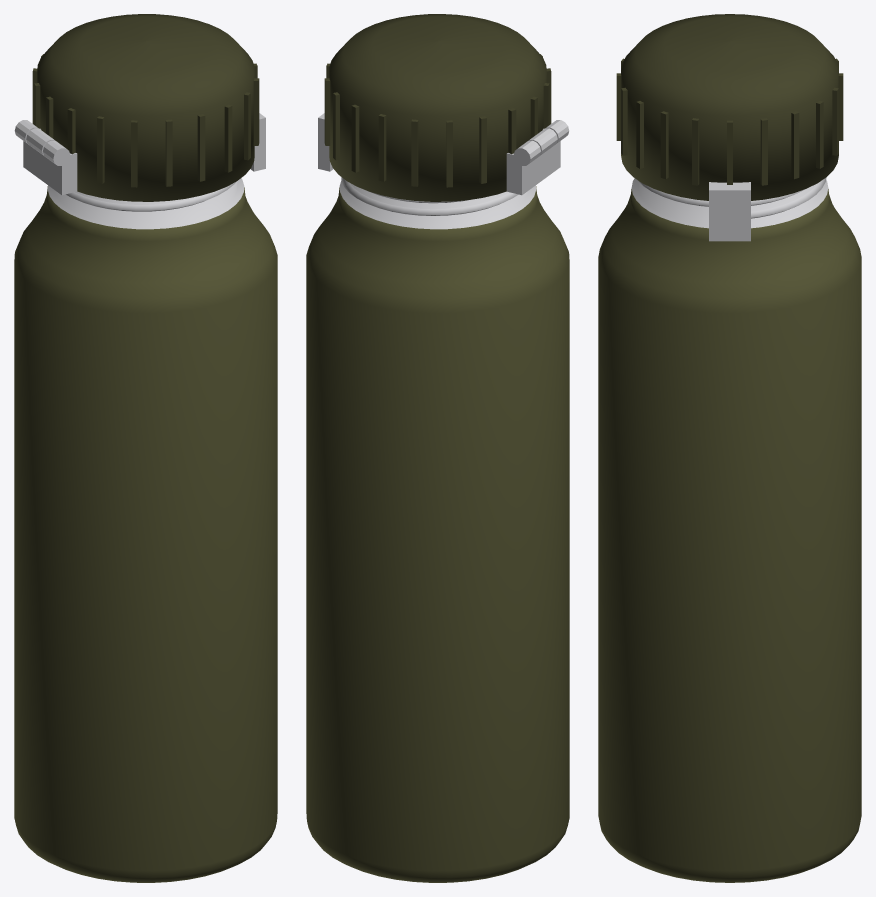
Rendered from Thermos.glb.
3 views of the same model, side by side, from view 1: azimuth 30°, elevation 25°; view 2: azimuth 150°, elevation 25°; view 3: azimuth 270°, elevation 25° (orthographic).
Parts seen in each view (by area): view 1: Thermos_Body, Thermos_Lid; view 2: Thermos_Body, Thermos_Lid; view 3: Thermos_Body, Thermos_Lid.
Part boxes in pixels (x1,y1,x2,y2): Thermos_Body: (14, 120, 277, 882); Thermos_Lid: (26, 14, 265, 201); Thermos_Body: (306, 120, 569, 882); Thermos_Lid: (318, 14, 557, 201); Thermos_Body: (598, 177, 861, 882); Thermos_Lid: (616, 14, 843, 241).
Size of the model in its own units: 0.075 by 0.249 by 0.075.
